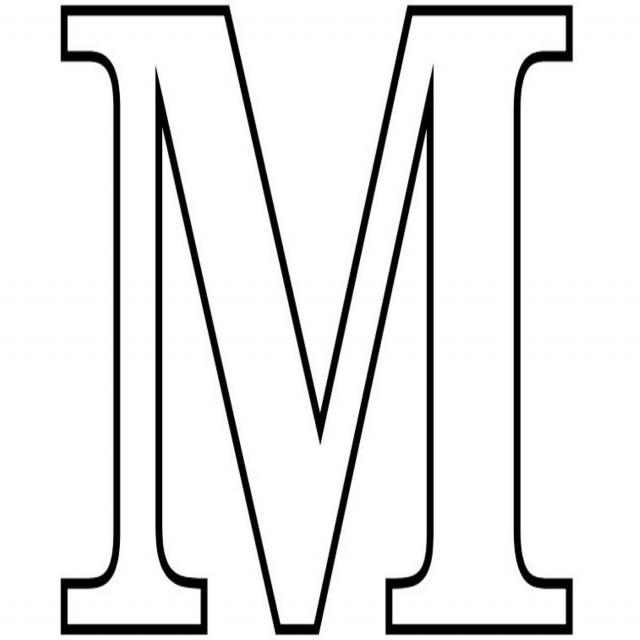M: (24, 1, 582, 634)
